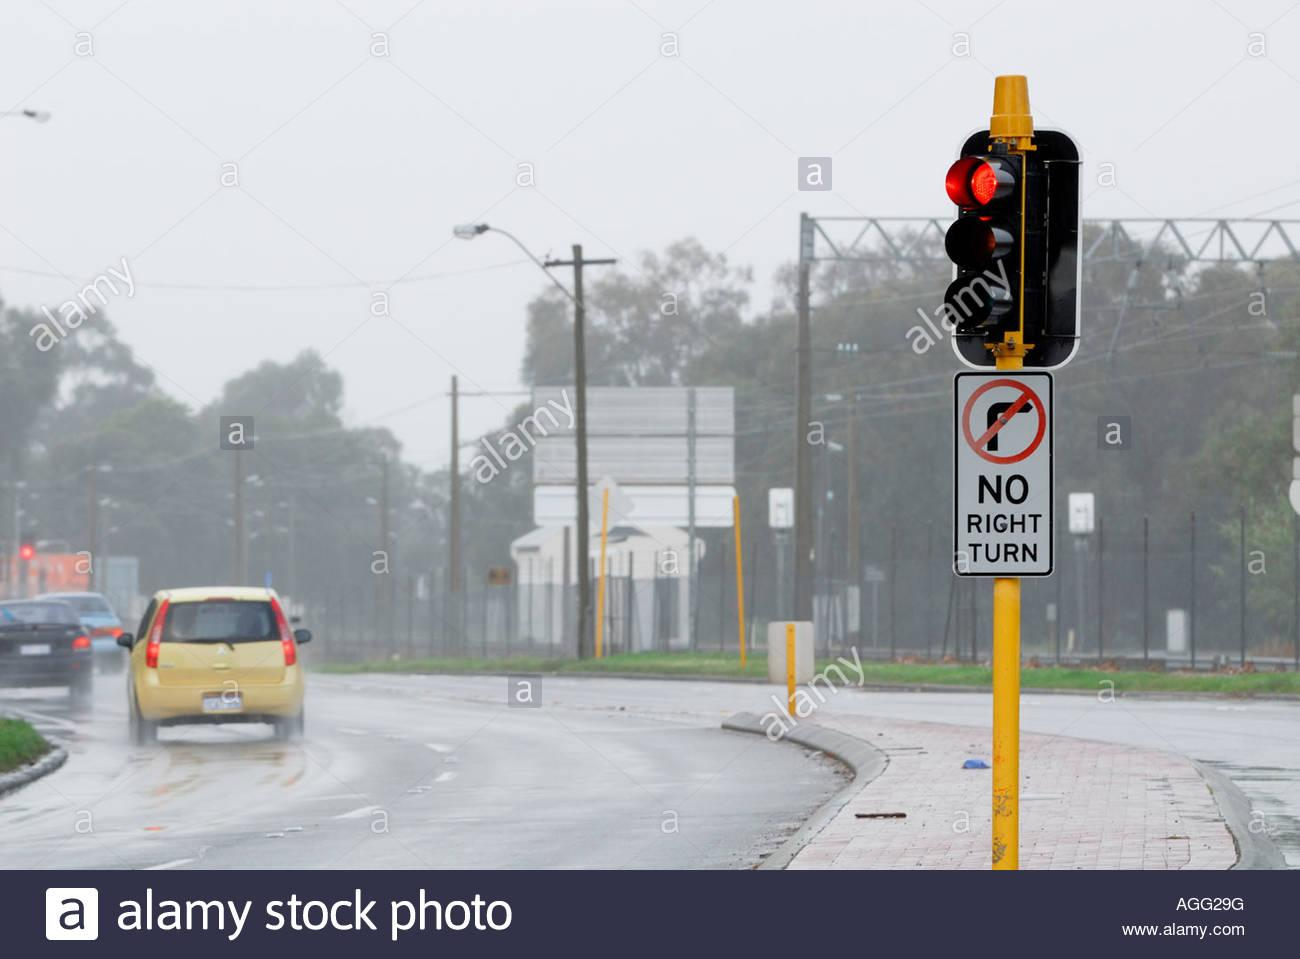no_right_turn: (963, 378, 1045, 463)
